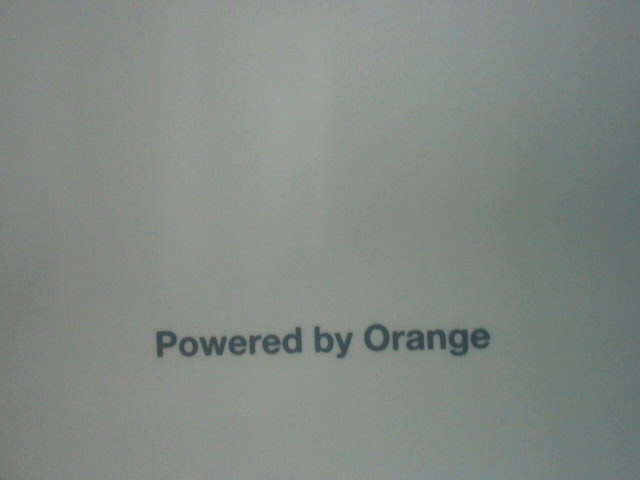AS_PowerByOrange: (147, 320, 495, 374)
